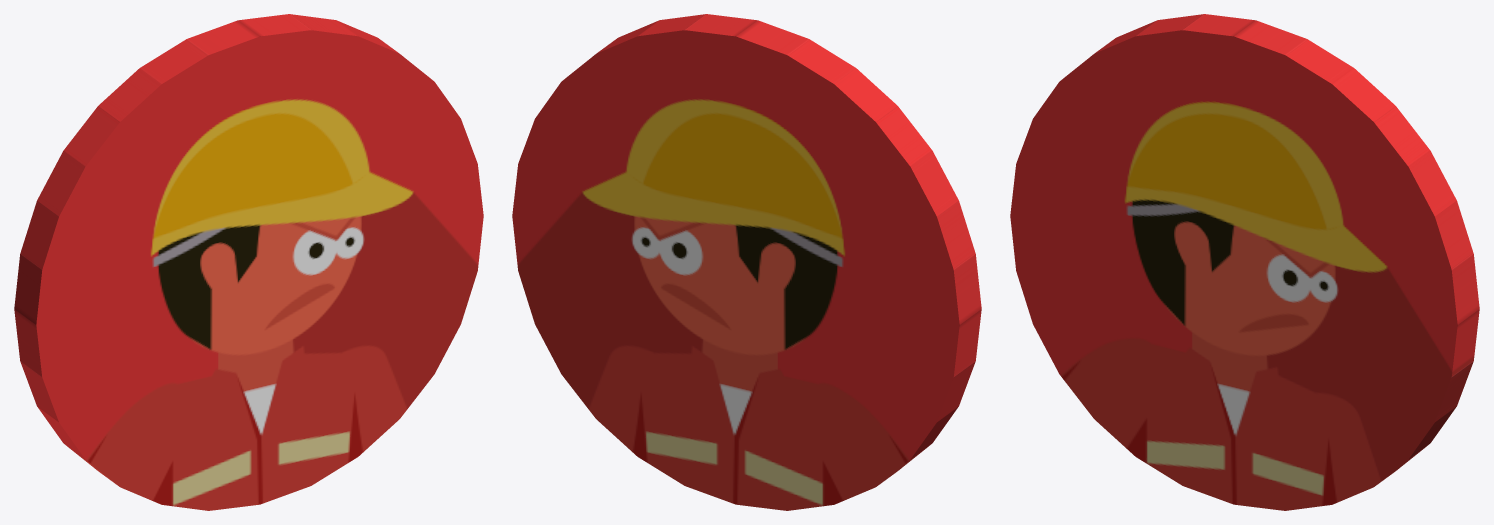
Rendered from angryMan.FBX.
3 renders of one model, left to right at view 1: azimuth 30°, elevation 25°; view 2: azimuth 150°, elevation 25°; view 3: azimuth 330°, elevation 25°, orthographic.
Parts seen in each view (by area): view 1: angryMan; view 2: angryMan; view 3: angryMan.
Boxes of the visible parts, left/top/right/bottom form: angryMan: left=14, top=14, right=483, bottom=510; angryMan: left=512, top=14, right=981, bottom=510; angryMan: left=1010, top=14, right=1479, bottom=510.
Bounding box in the file's own units: 36.46 × 36.46 × 3.11.
Materials: 1 (1 with a texture image).
